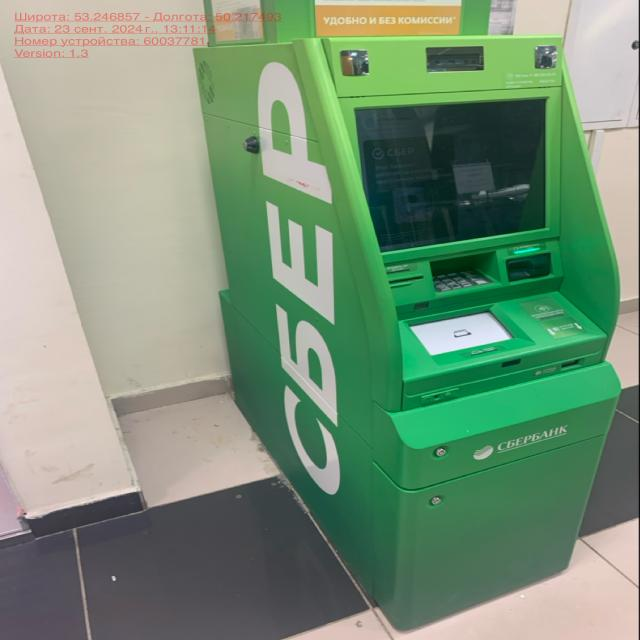bank: (196, 41, 636, 633)
